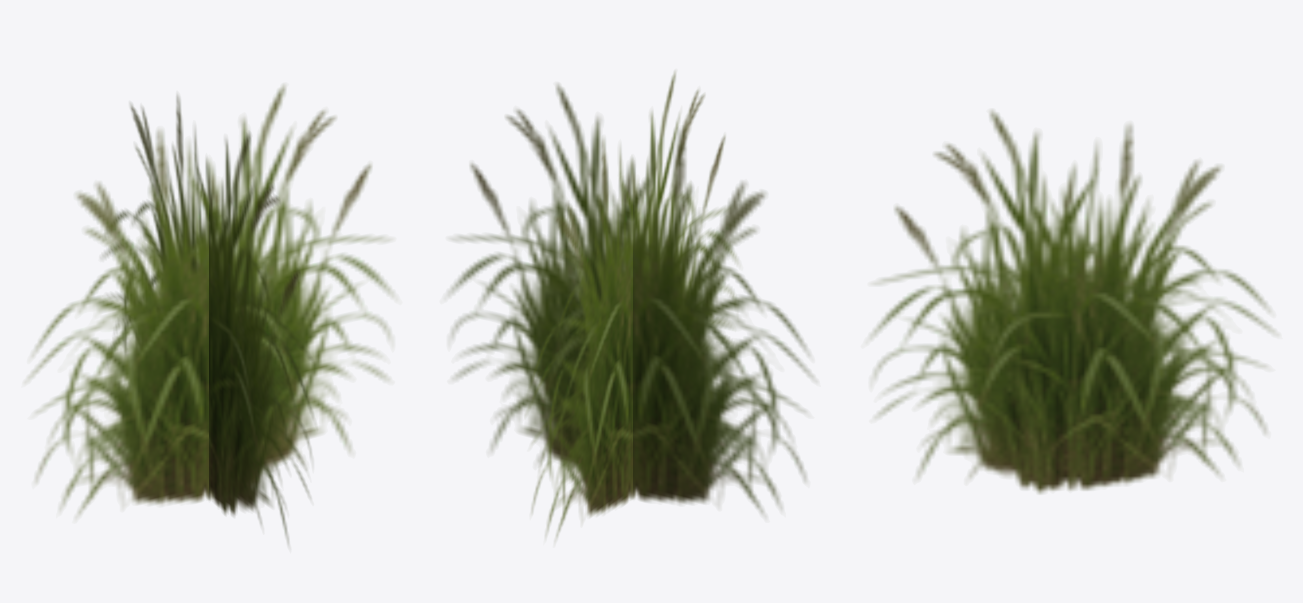
File: grama.glb
3 renders of one model, left to right at view 1: azimuth 30°, elevation 25°; view 2: azimuth 150°, elevation 25°; view 3: azimuth 270°, elevation 25°, orthographic. The views are drawn at different scales.
Parts seen in each view (by area): view 1: Plane; view 2: Plane; view 3: Plane.
Part boxes in pixels (bbox=[...]): Plane: bbox=[28, 85, 392, 543]; Plane: bbox=[449, 72, 813, 537]; Plane: bbox=[871, 110, 1274, 493].
Bounding box in the file's own units: 0.5924 × 0.5924 × 0.5924.
Materials: 1 (1 with a texture image).
